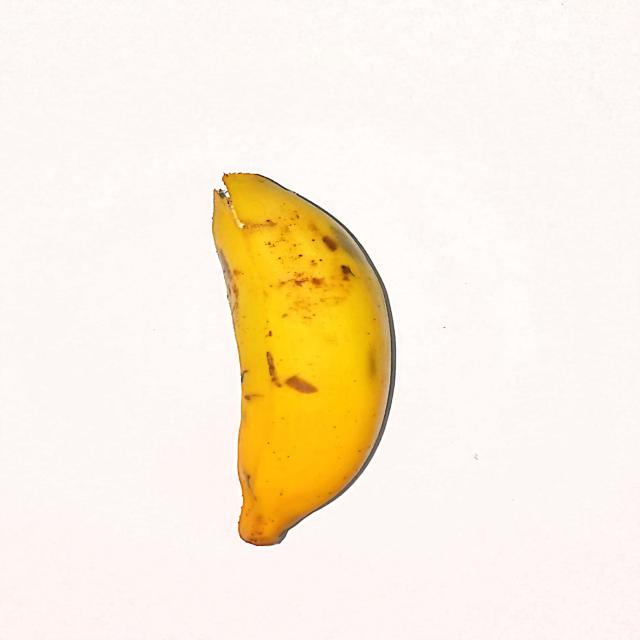fresh_banana: (210, 173, 394, 543)
